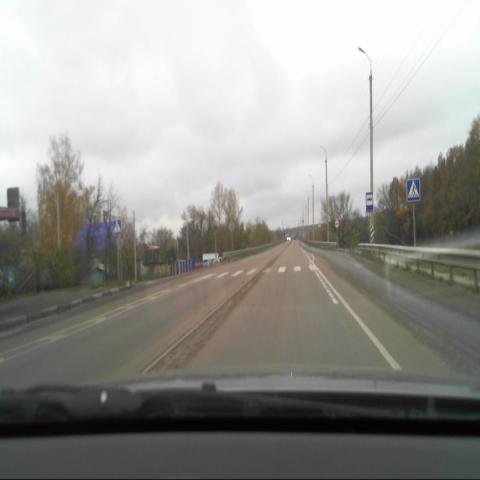5_16: (364, 192, 374, 213)
5_19_1: (407, 178, 419, 201), (111, 219, 121, 237)
